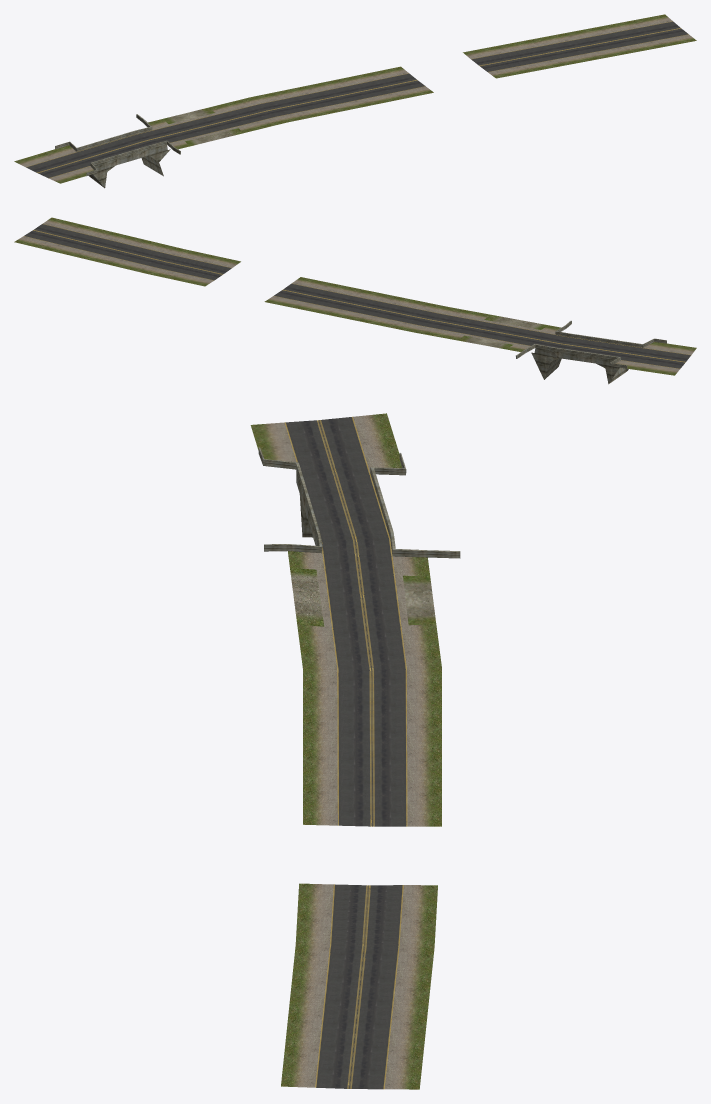
File: cunte_roads54.obj
3 views of the same model, one above another, from view 1: azimuth 30°, elevation 25°; view 2: azimuth 150°, elevation 25°; view 3: azimuth 270°, elevation 25° (orthographic). The views are drawn at different scales.
Visible parts, largest first — view 1: cunte_roads54; view 2: cunte_roads54; view 3: cunte_roads54.
Part boxes in pixels (<box>): cunte_roads54: <box>14,14,696,188</box>; cunte_roads54: <box>14,217,696,384</box>; cunte_roads54: <box>250,413,460,1089</box>.
Size of the model in its own units: 217 by 11.9 by 30.18.
